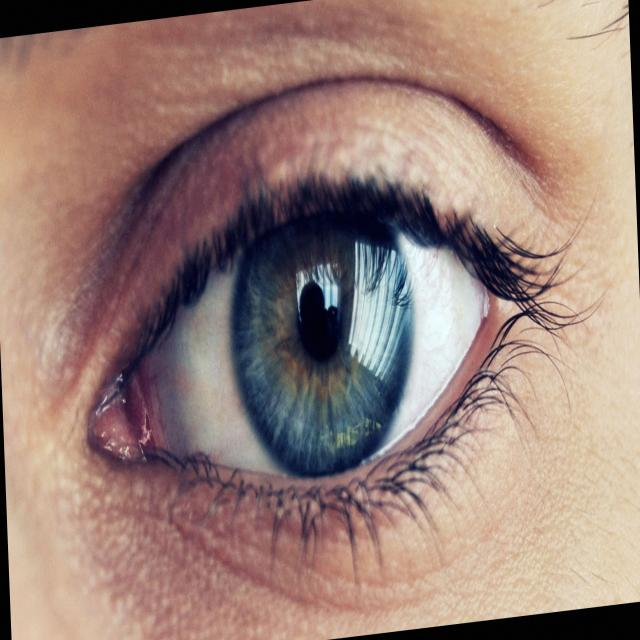Healthy-Eye: (142, 215, 508, 489)
